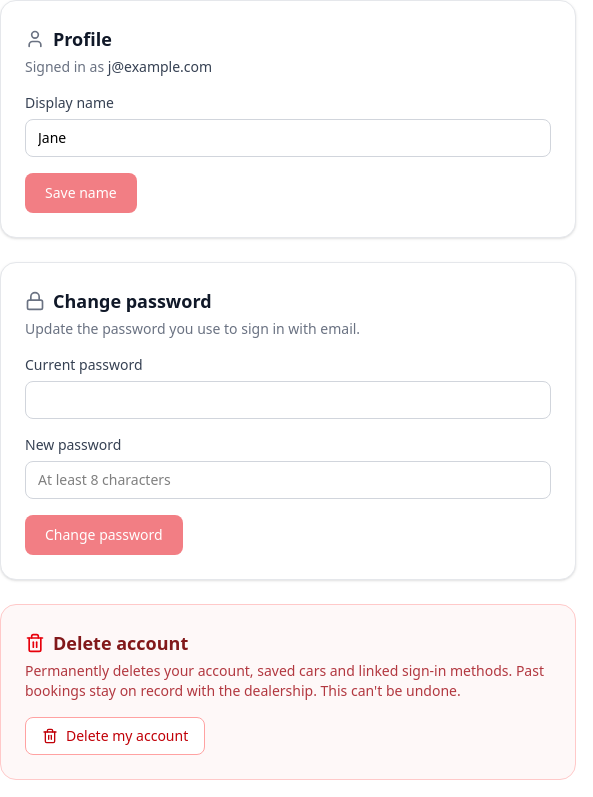
Scenario: AccountSettings › Cancel button on the delete confirmation reverts to the primer state
Check: the heading "Delete account" is shown, box [25,631,188,655]
Click the button "Delete my account" at point(115, 736), box [25,717,205,755]
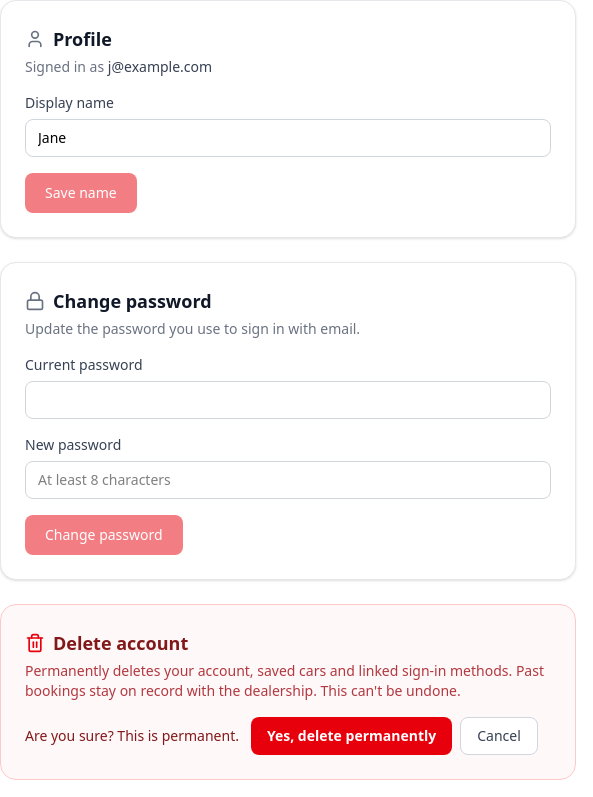
Click the button "Cancel" at point(499, 736), box [460,717,538,755]
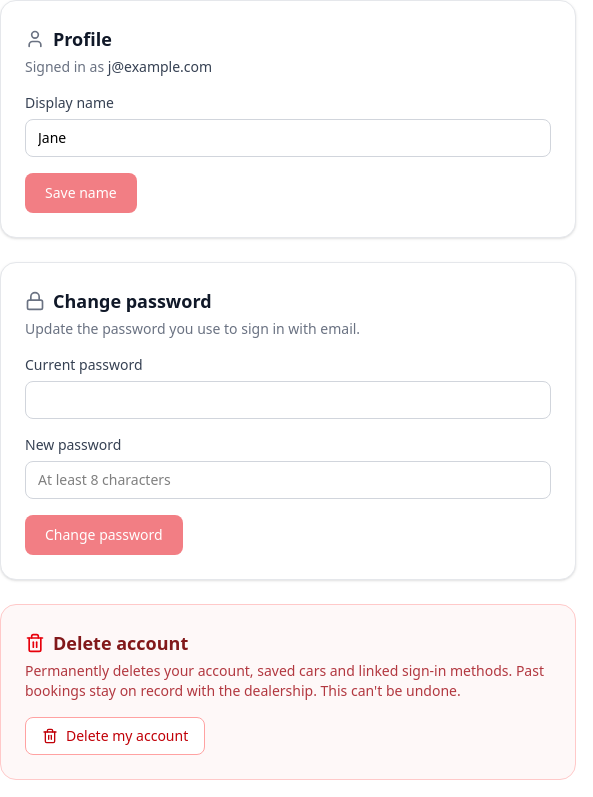
Check: the text "Are you sure? This is permanent" is gone
Check: the button "Delete my account" is shown, box [25,717,205,755]
